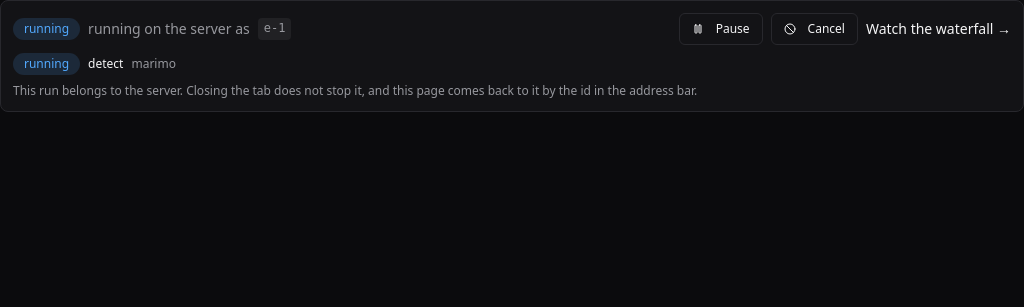
Test case: reading a step's log › offers a pod log per attempt, newest first, and reads one on a click
Click the button "running detect marimo".
click(47, 64)  # box [13,53,1011,75]
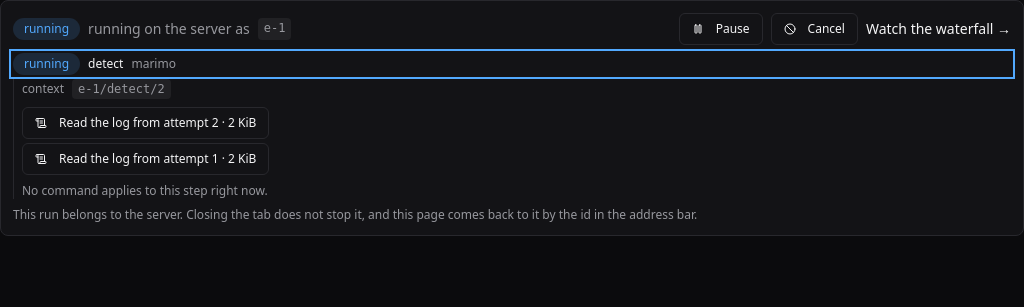
Click the button "Read the log from attempt 1 · 2 KiB".
click(146, 159)  # box [22,143,269,175]
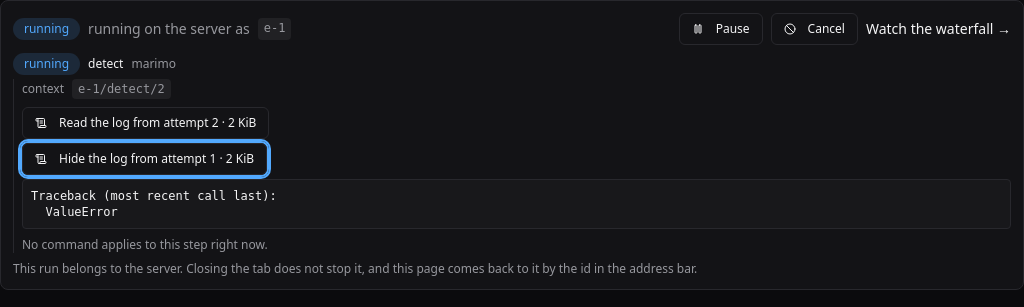
Result: the text "Traceback (most recent call last): ValueError" is shown at [22,179,1011,229]
